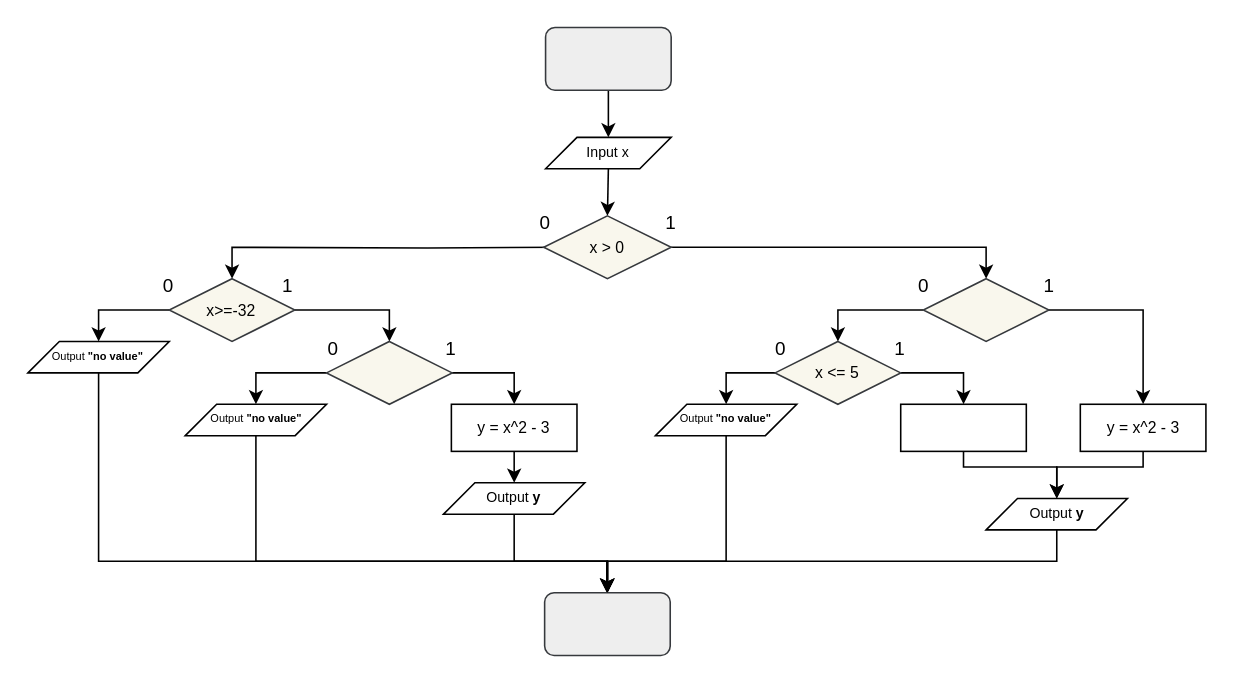
The diagram is 1234 pixels wide and 683 high, and some of its shapes have lost their labels. Here are the shapes that lost their labels. From the top down, the box of each, then its label:
(544, 26, 671, 90): Start
(922, 277, 1049, 341): x > 10
(325, 340, 452, 404): x<-20
(899, 403, 1026, 451): y = x^3 - 5x^2
(543, 591, 670, 655): End
